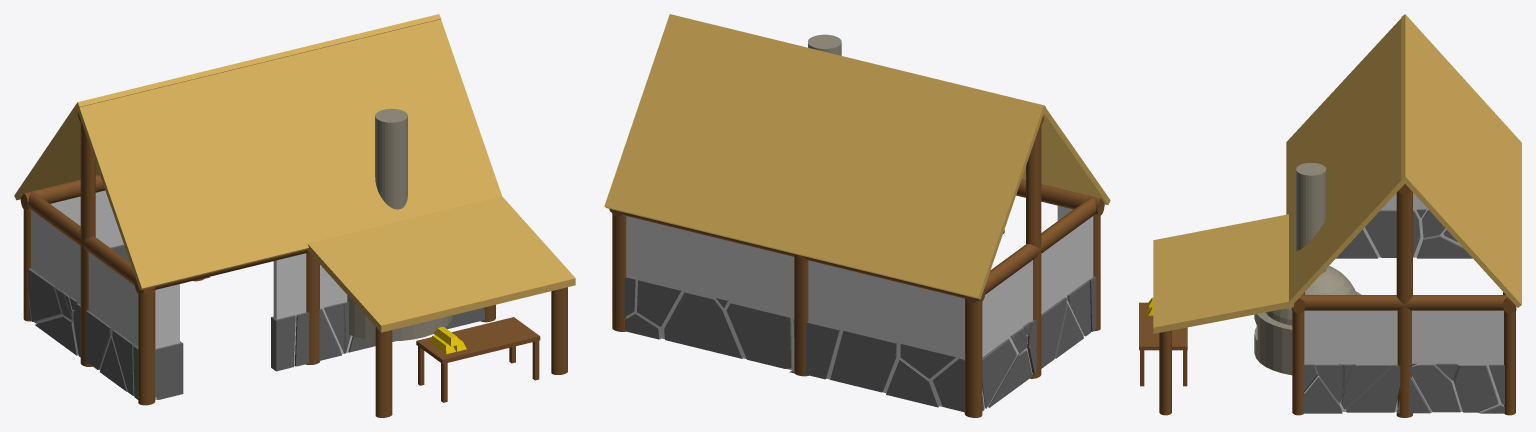
Rendered from Goldsmith.fbx.
3 views of the same model, side by side, from view 1: azimuth 30°, elevation 25°; view 2: azimuth 150°, elevation 25°; view 3: azimuth 270°, elevation 25° (orthographic). The views are drawn at different scales.
Parts seen in each view (by area): view 1: Roof, Struts, Clay Walls, Stone Walls, Oven, Table, Gold Bars; view 2: Roof, Clay Walls, Stone Walls, Struts, Oven; view 3: Roof, Stone Walls, Clay Walls, Struts, Oven, Table.
Boxes of the visible parts, x1,y1,x2,y2 form: Roof: (14,14,575,332); Struts: (20,113,567,417); Clay Walls: (31,190,352,399); Stone Walls: (28,244,484,399); Oven: (347,108,452,341); Table: (416,317,540,402); Gold Bars: (428,326,466,354); Roof: (604,14,1110,299); Clay Walls: (626,205,1093,410); Stone Walls: (624,276,1096,412); Struts: (609,116,1104,417); Oven: (808,34,841,55); Roof: (1153,14,1521,333); Stone Walls: (1302,209,1504,413); Clay Walls: (1304,193,1503,411); Struts: (1159,184,1516,417); Oven: (1254,162,1361,375); Table: (1139,302,1187,386).
Bounding box in the file's own units: 182 × 127 × 181.
